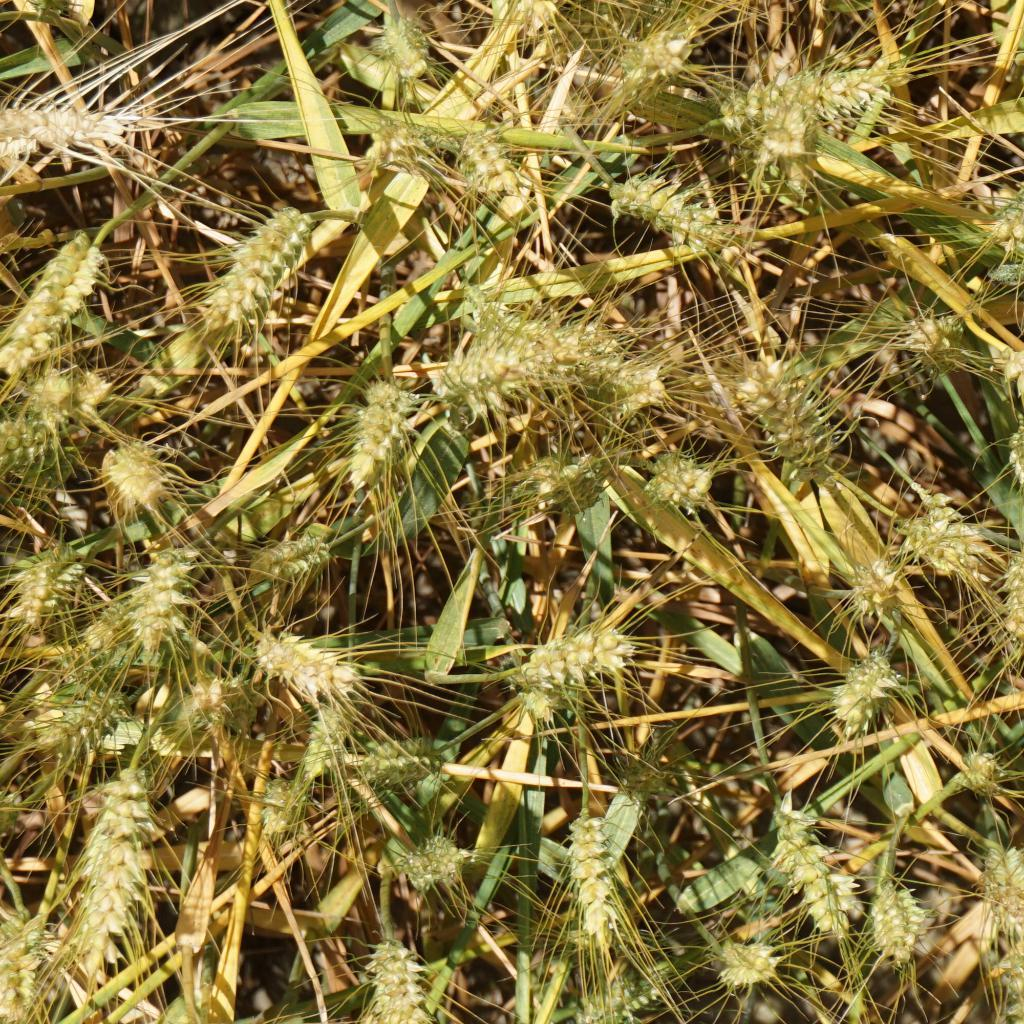0-0: (58, 756, 176, 962), (188, 194, 323, 323), (0, 230, 105, 352), (557, 805, 633, 947), (750, 349, 837, 471), (328, 382, 418, 495), (718, 63, 909, 113), (78, 417, 183, 507), (615, 180, 747, 249), (340, 721, 454, 795), (529, 314, 625, 394), (27, 671, 120, 753), (781, 819, 852, 924), (22, 358, 117, 433), (512, 636, 632, 695), (0, 108, 124, 164), (529, 445, 625, 515), (239, 632, 349, 692), (950, 731, 1024, 819), (897, 491, 983, 563), (138, 536, 194, 646), (370, 932, 434, 1024), (829, 646, 906, 722), (0, 396, 67, 483), (861, 873, 927, 960), (969, 841, 1024, 945), (366, 107, 436, 188), (0, 908, 52, 1017), (400, 823, 474, 896), (617, 13, 694, 82), (9, 548, 76, 626), (617, 739, 697, 804), (456, 131, 528, 201), (739, 107, 823, 165), (569, 965, 650, 1024), (889, 308, 962, 373), (602, 352, 678, 414), (847, 555, 908, 632), (445, 325, 516, 391), (292, 700, 347, 783), (254, 521, 328, 581), (987, 536, 1024, 656), (724, 915, 785, 987), (251, 784, 316, 849), (72, 605, 134, 673), (656, 448, 718, 516), (173, 664, 238, 727), (369, 13, 432, 72), (989, 430, 1024, 502), (0, 768, 26, 848), (495, 0, 563, 27), (1004, 937, 1024, 1022), (12, 0, 90, 14), (1007, 198, 1024, 248)
